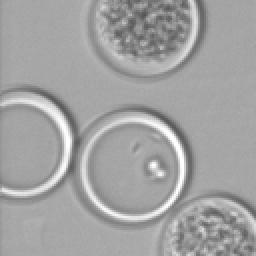picoshell: (74, 108, 190, 224), (88, 0, 204, 78), (0, 88, 76, 196), (158, 192, 254, 254)
